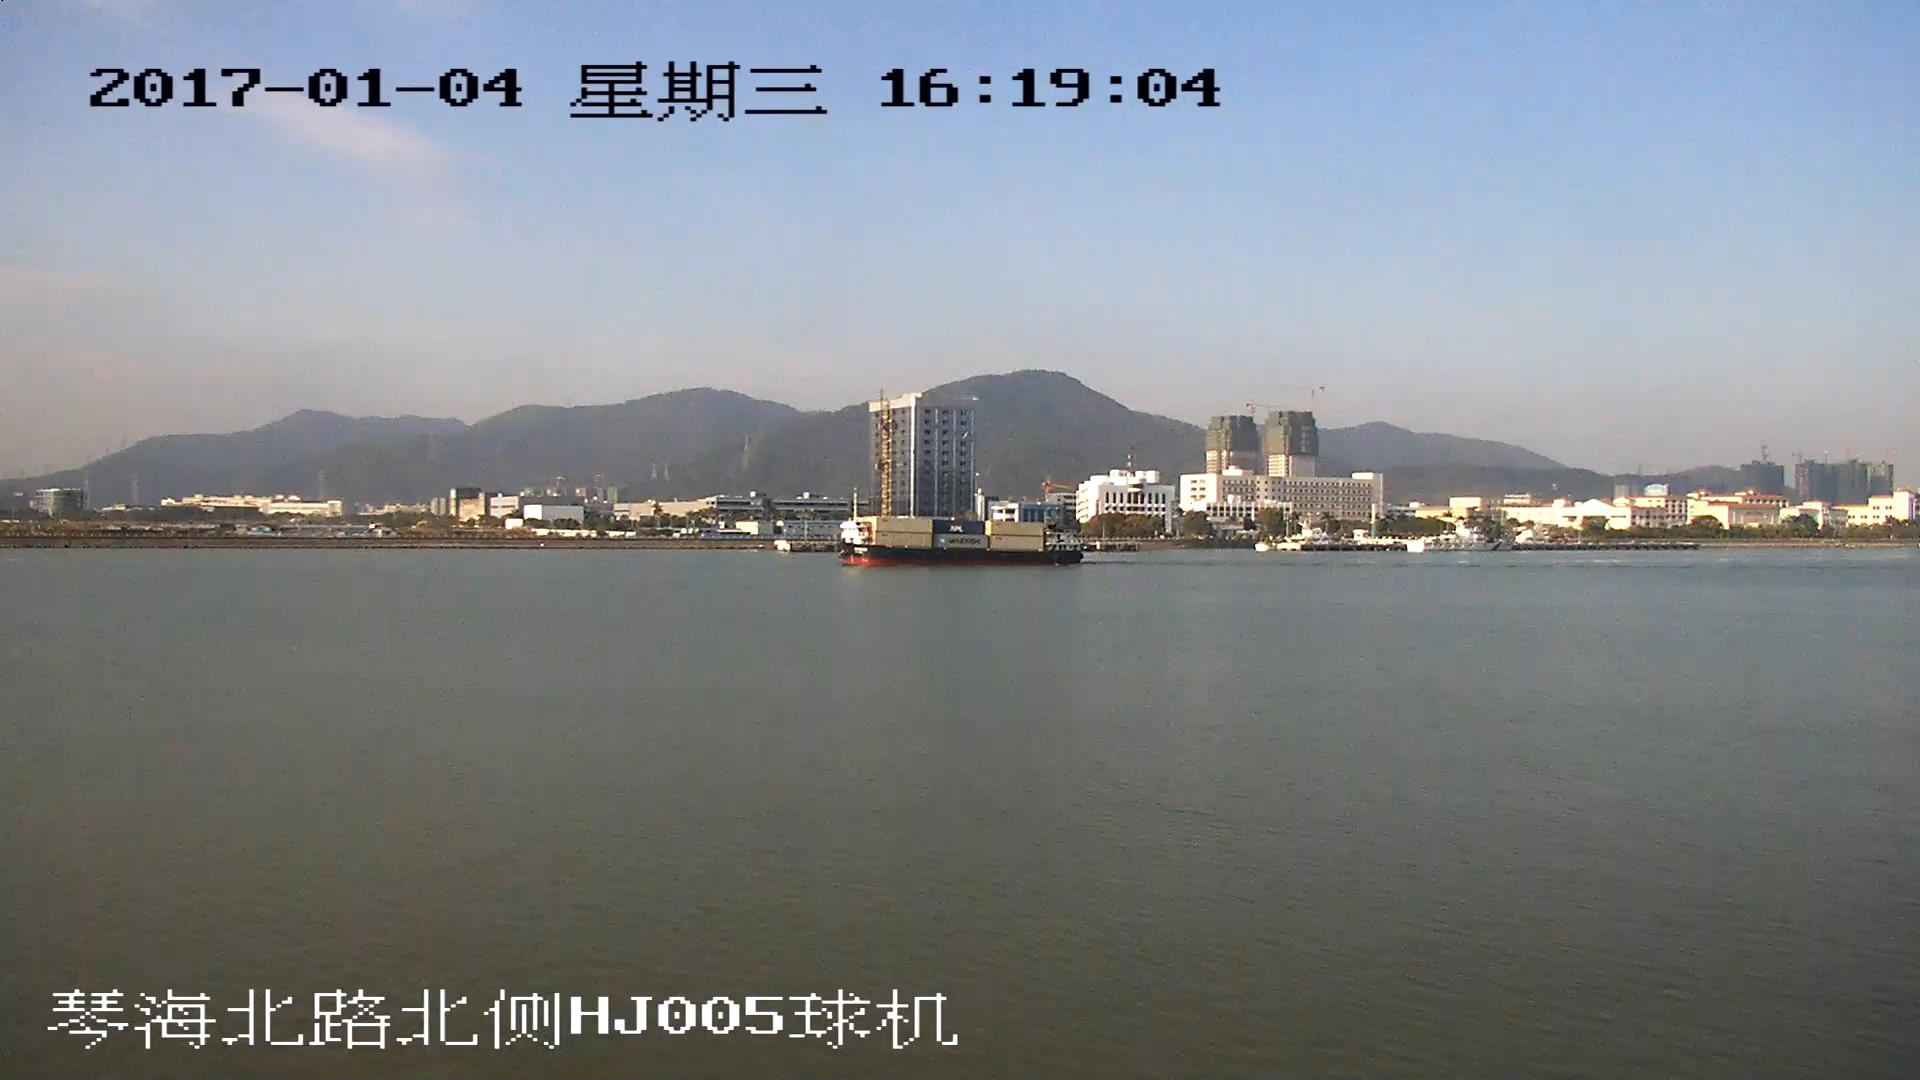container ship: (841, 516, 1082, 566)
